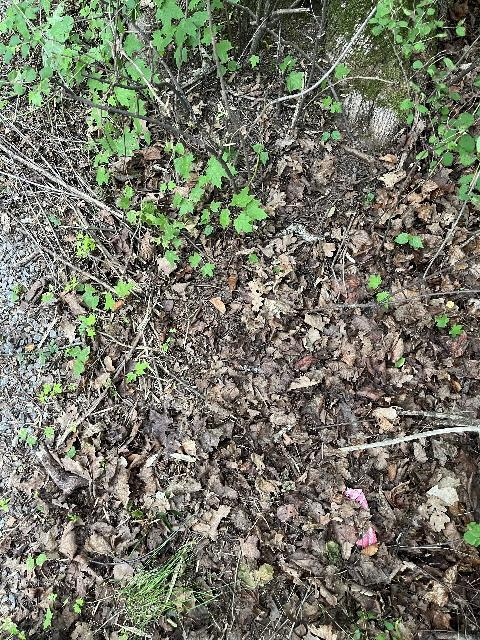can: (340, 487, 381, 548)
